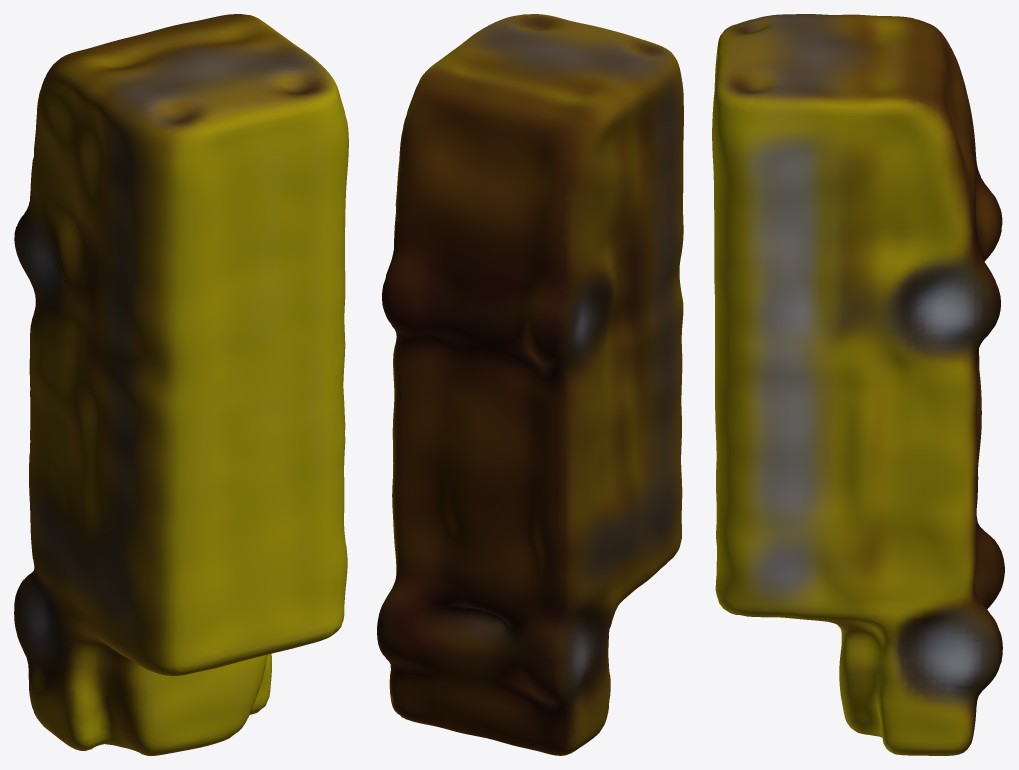
File: school_bus1.glb
The picture shows the model from 3 angles, left to right: view 1: azimuth 30°, elevation 25°; view 2: azimuth 150°, elevation 25°; view 3: azimuth 270°, elevation 25°; orthographic projection. The views are drawn at different scales.
Size of the model in its own units: 0.3167 by 0.9999 by 0.396.
